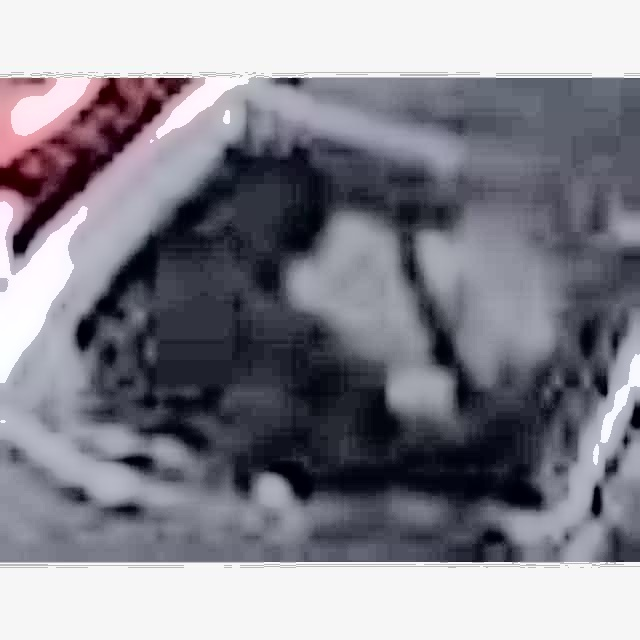pakai: (281, 194, 524, 446)
